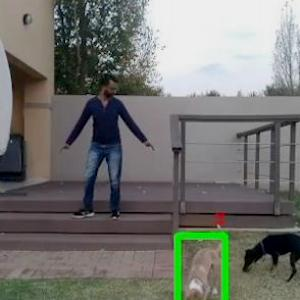land: (61, 74, 145, 230)
